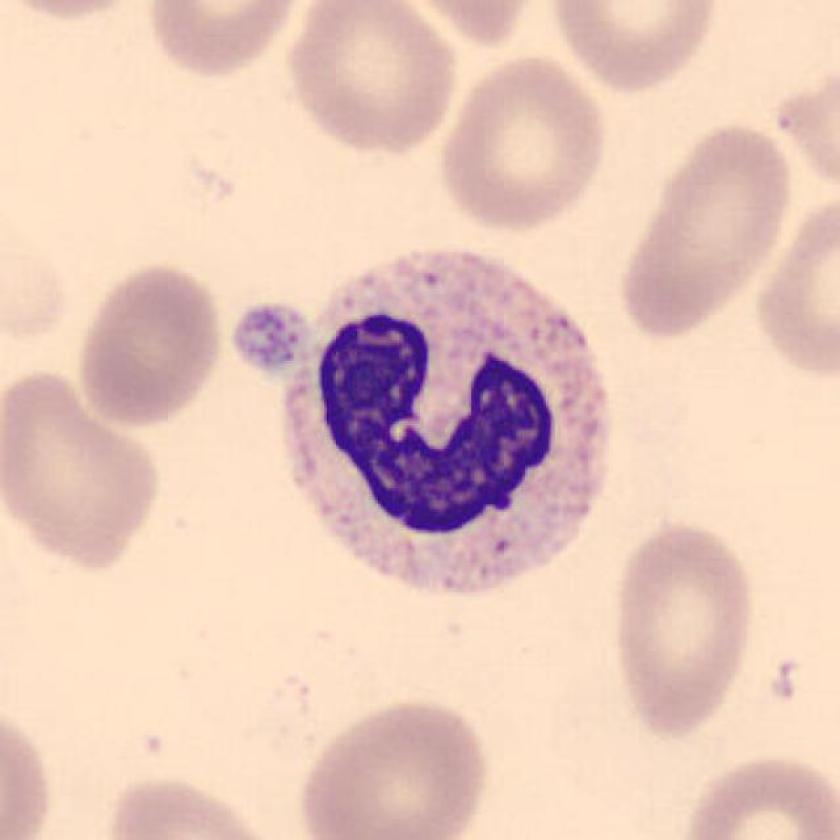neutrophil: (286, 246, 603, 593)
